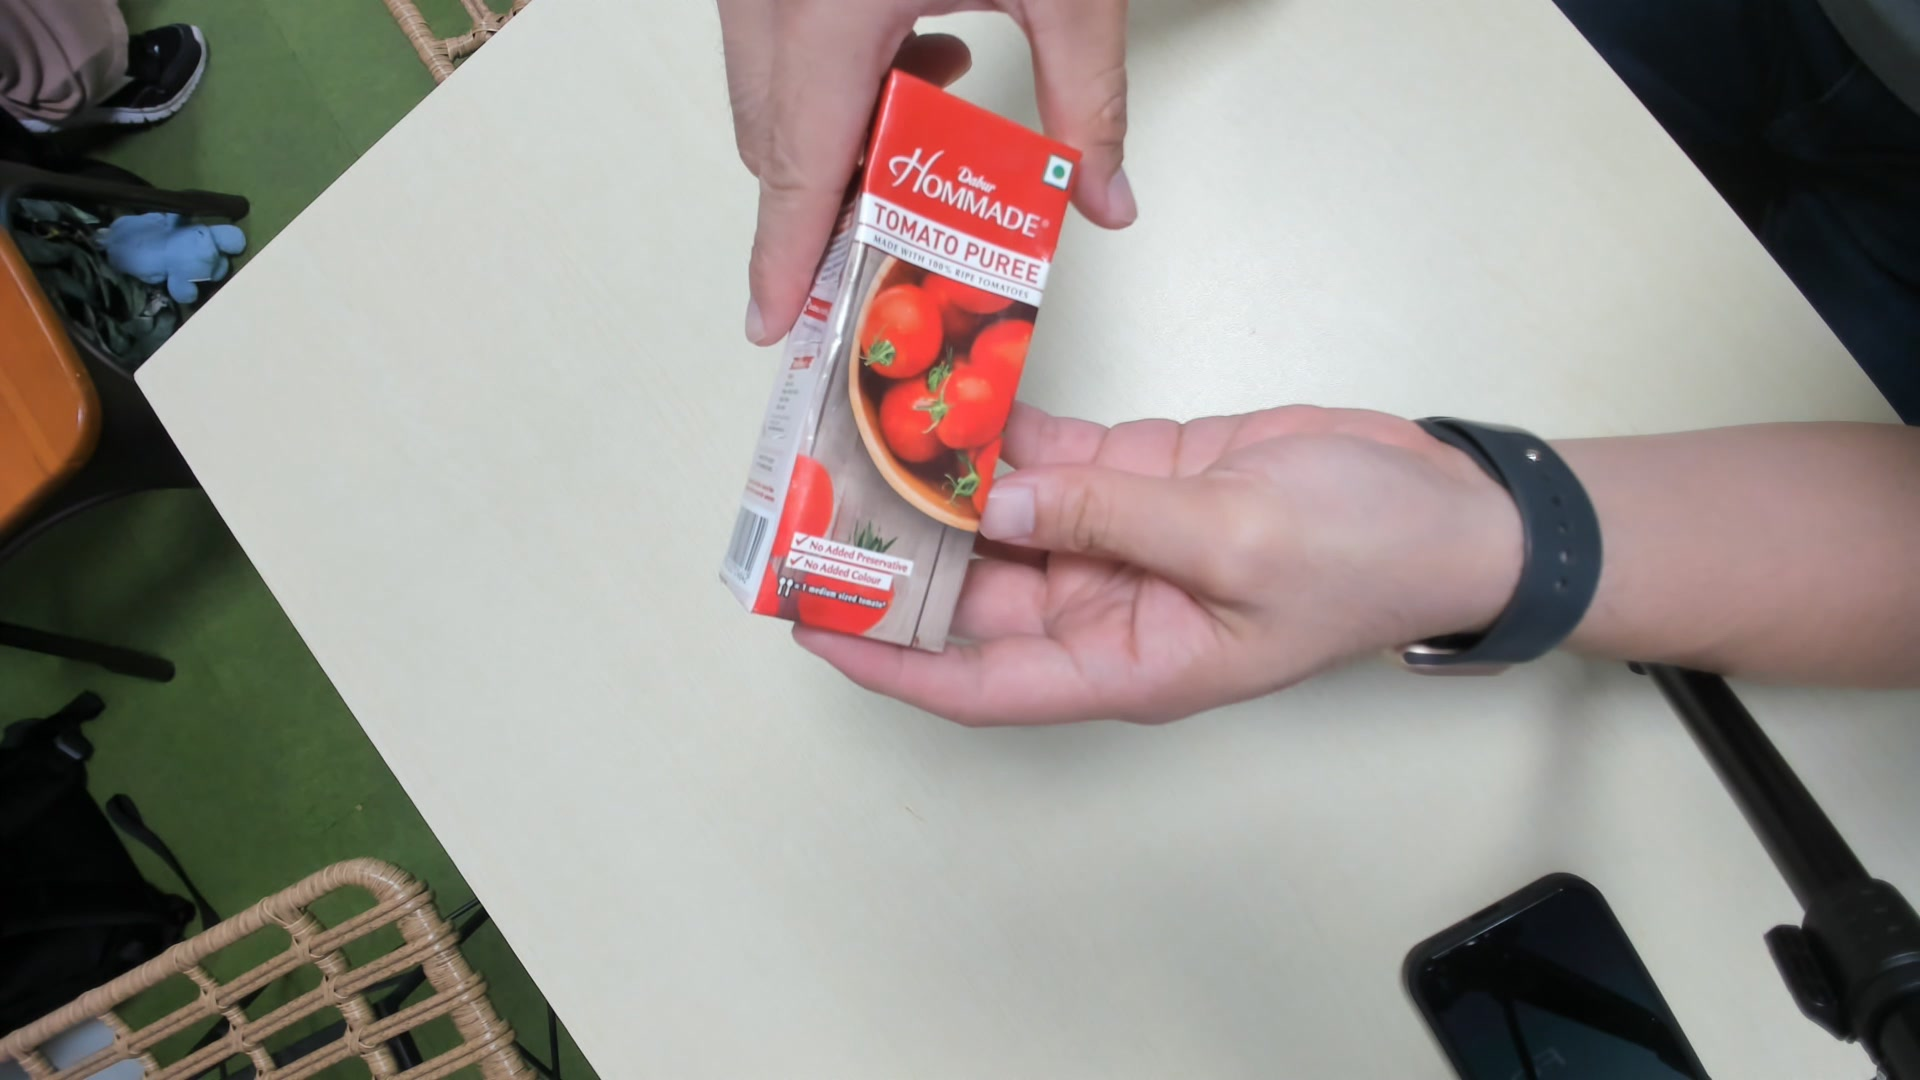OtherSauceDressing_200-299g_NonHalal_NonHealthy: (715, 70, 1083, 651)
